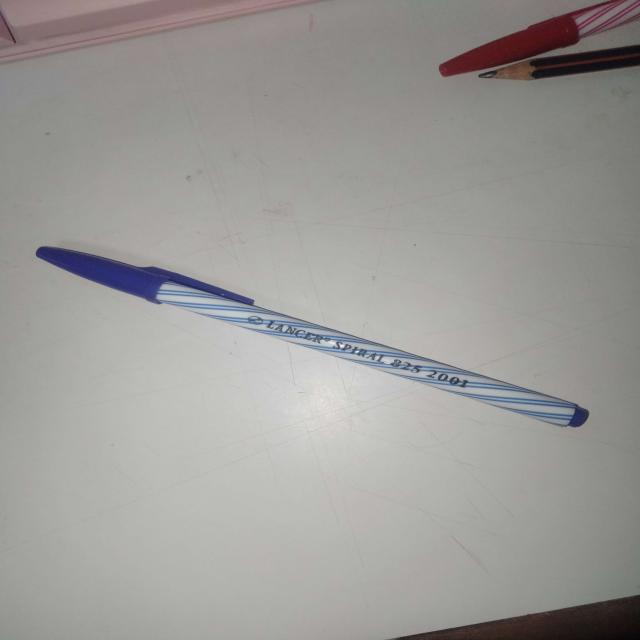pen_pencil: (20, 203, 631, 479)
